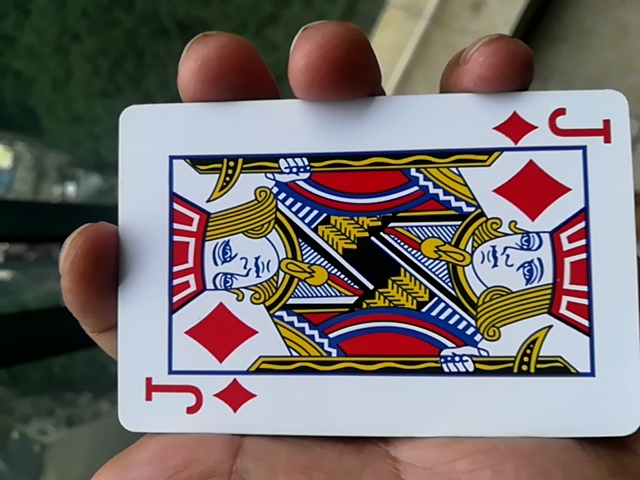fk j: (101, 108, 636, 443)
